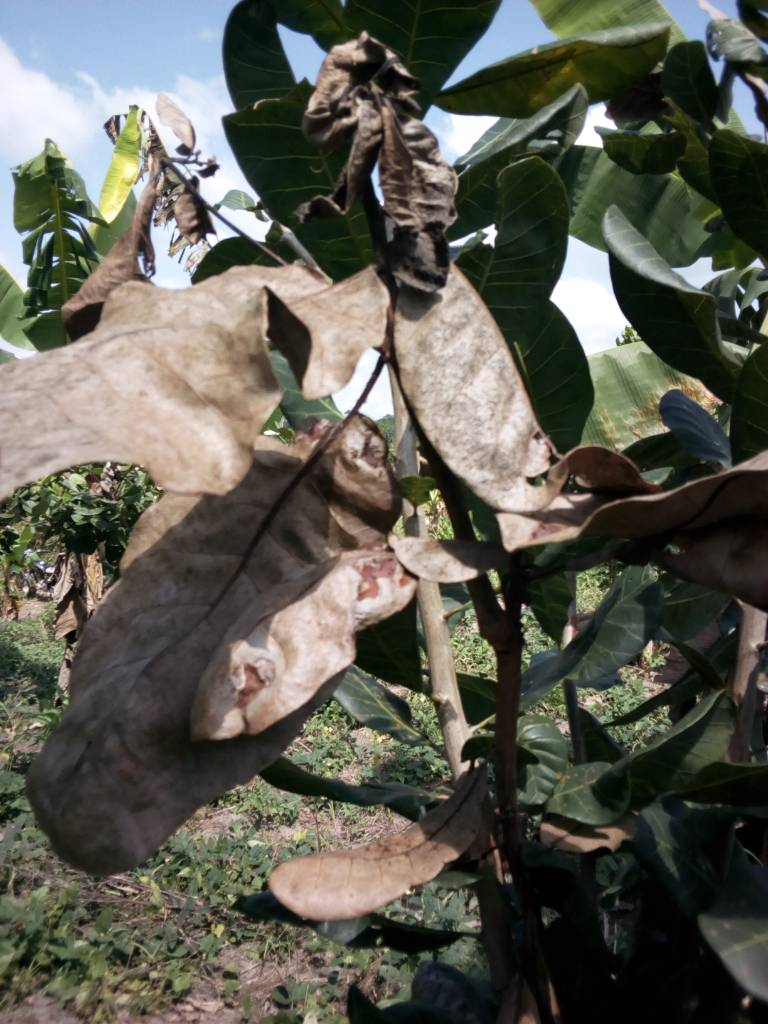Dessèchement des bourgeons: (138, 127, 223, 254)
